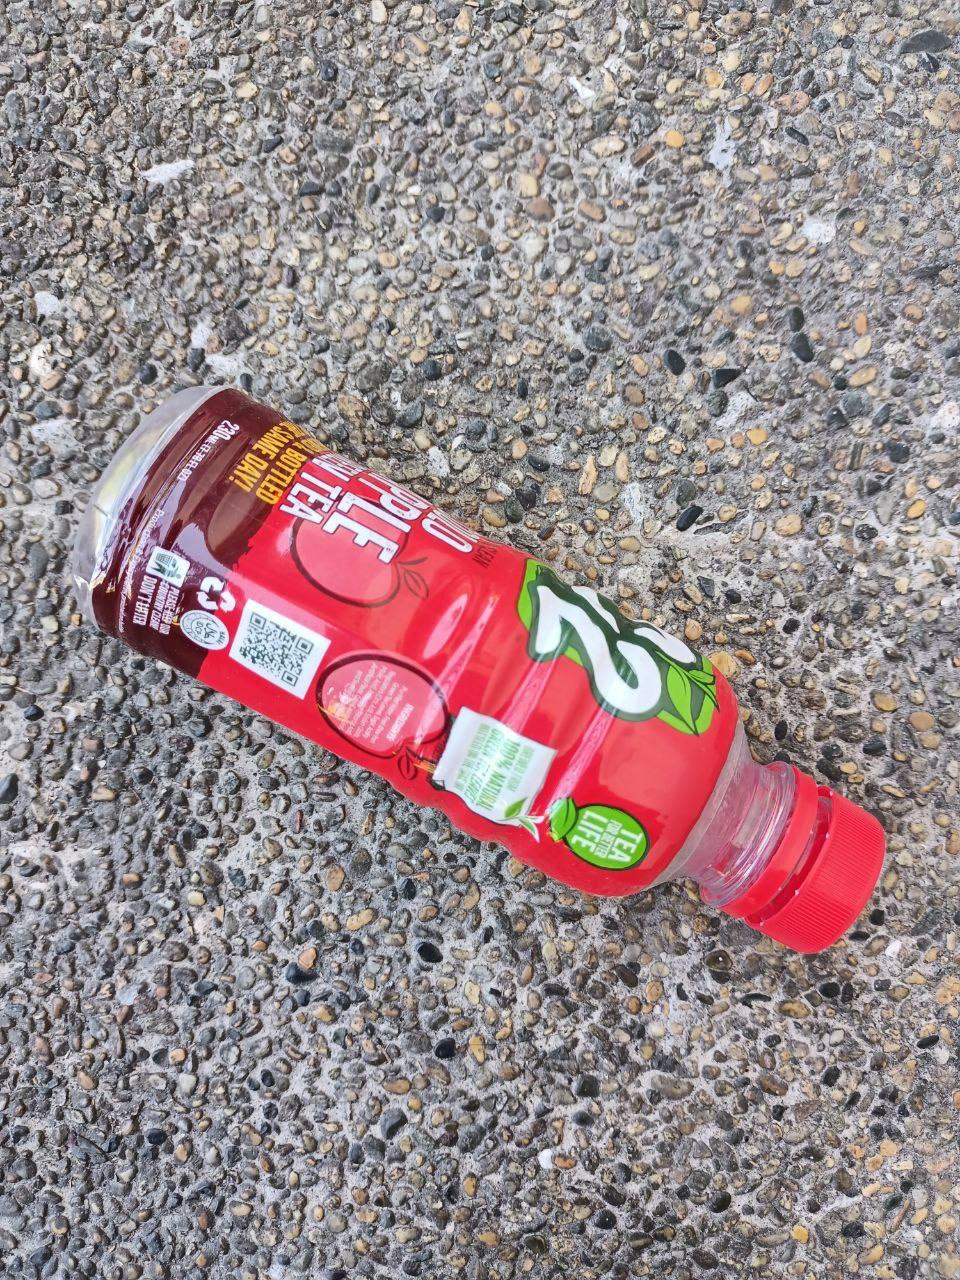plastic: (28, 383, 911, 959)
